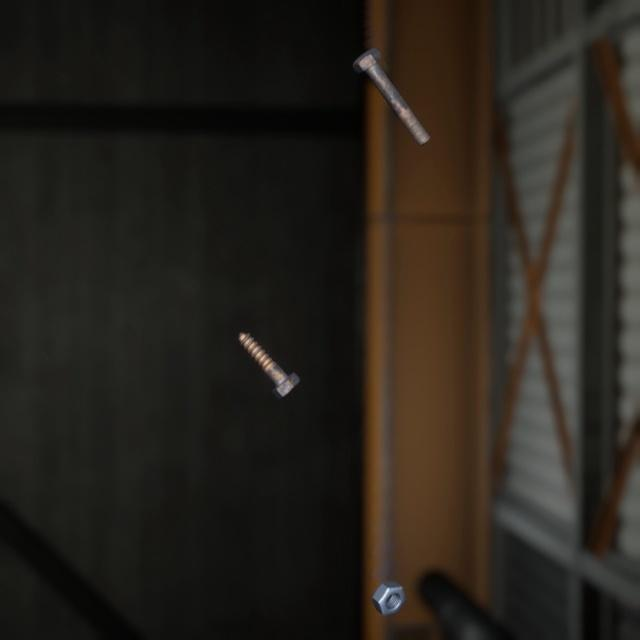bolt: (348, 33, 434, 139), (234, 309, 305, 384)
nut: (367, 554, 410, 597)
